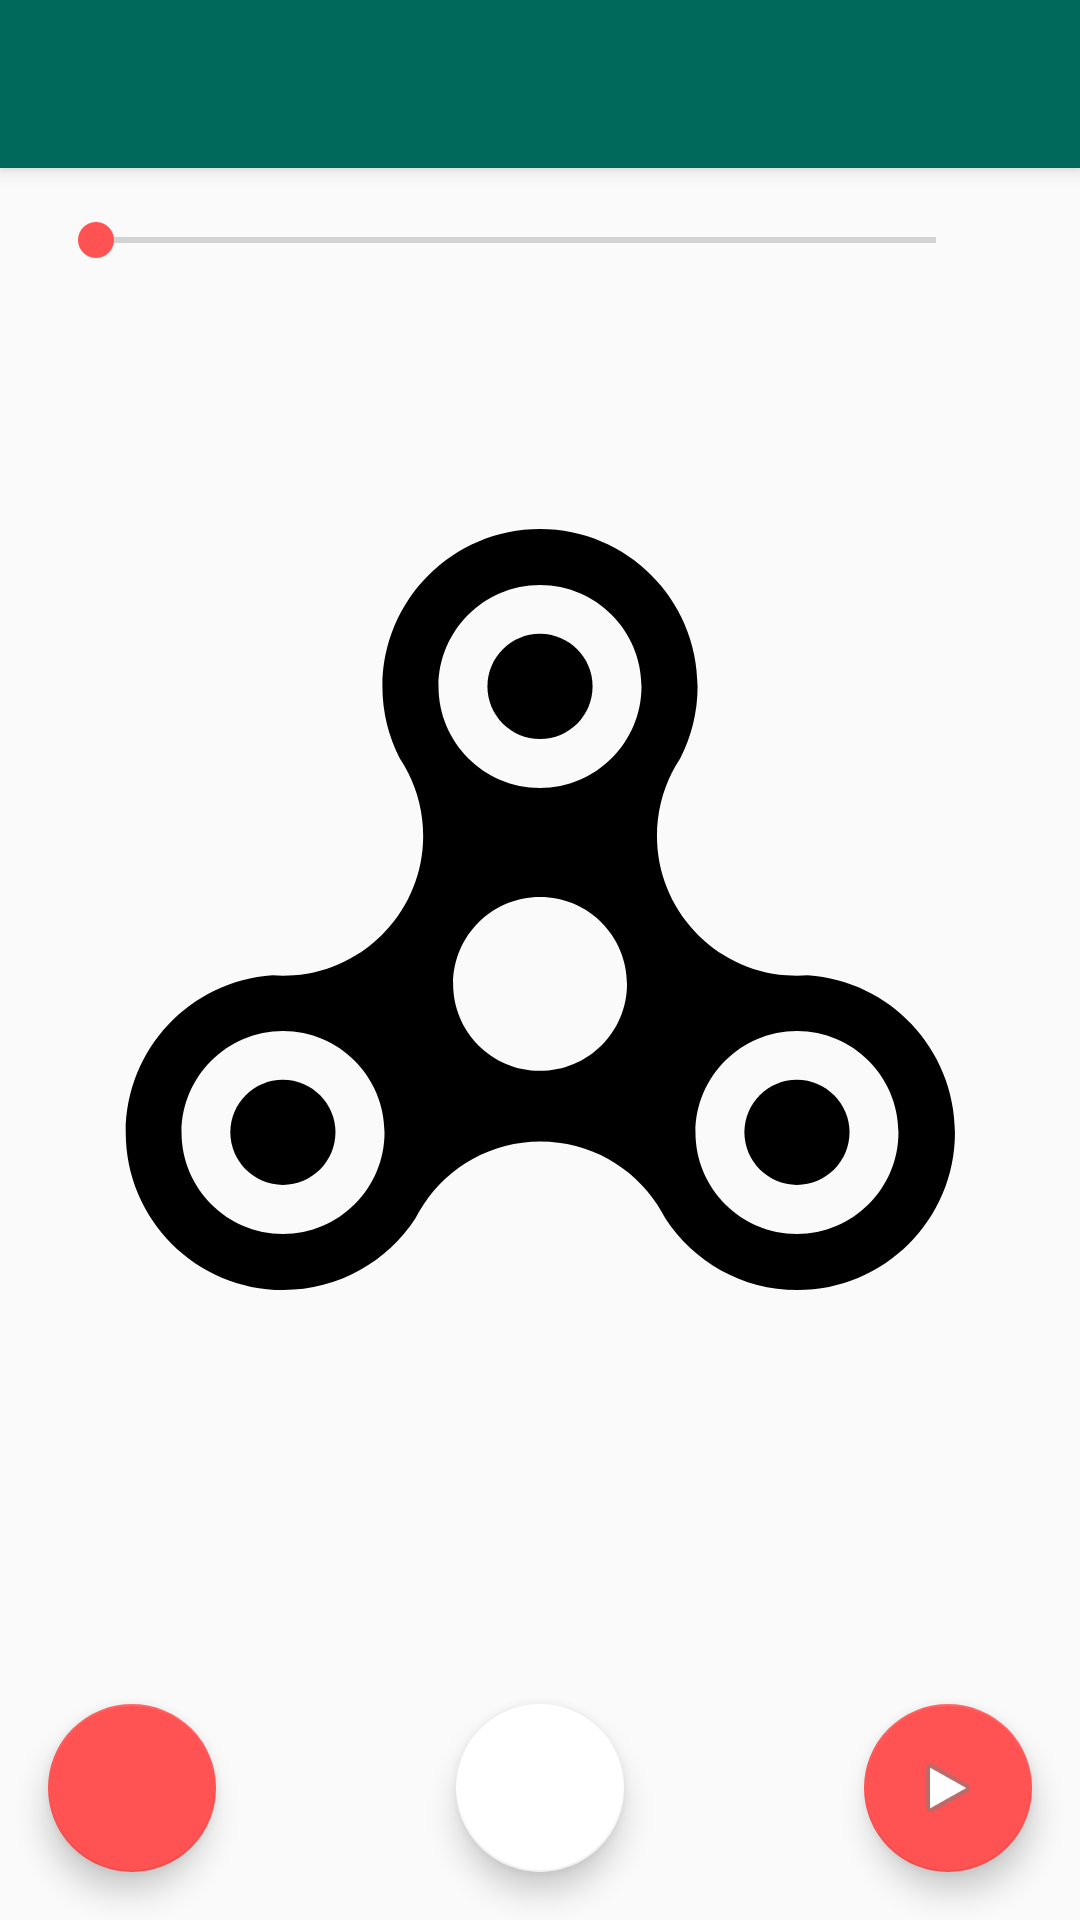

Named icons in this screenshot (1080 x 1920) and their centers, [x,y]:
play: [948,1788]
